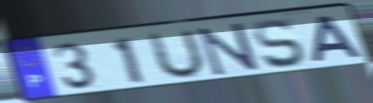1: (111, 35, 146, 86)
3: (52, 40, 101, 92)
A: (311, 13, 366, 65)
N: (195, 21, 262, 78)
S: (251, 17, 309, 71)
U: (147, 26, 207, 82)
